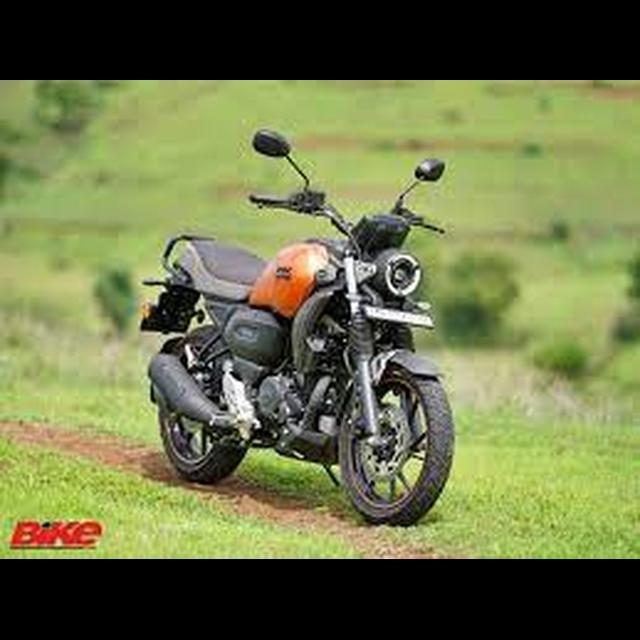motorcycle: (137, 123, 462, 530)
